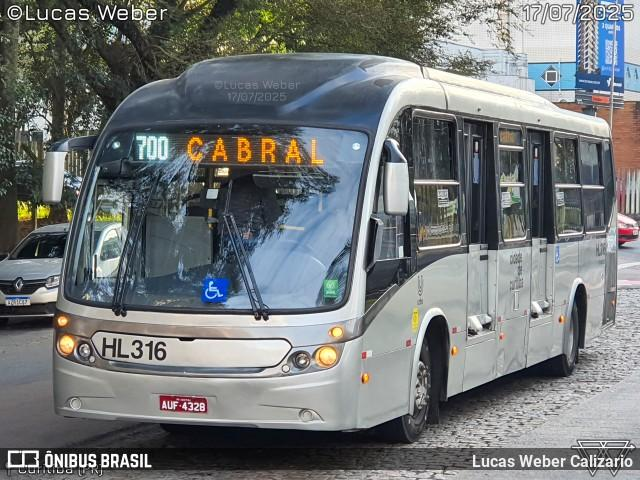CABRAL: (178, 128, 327, 170)
